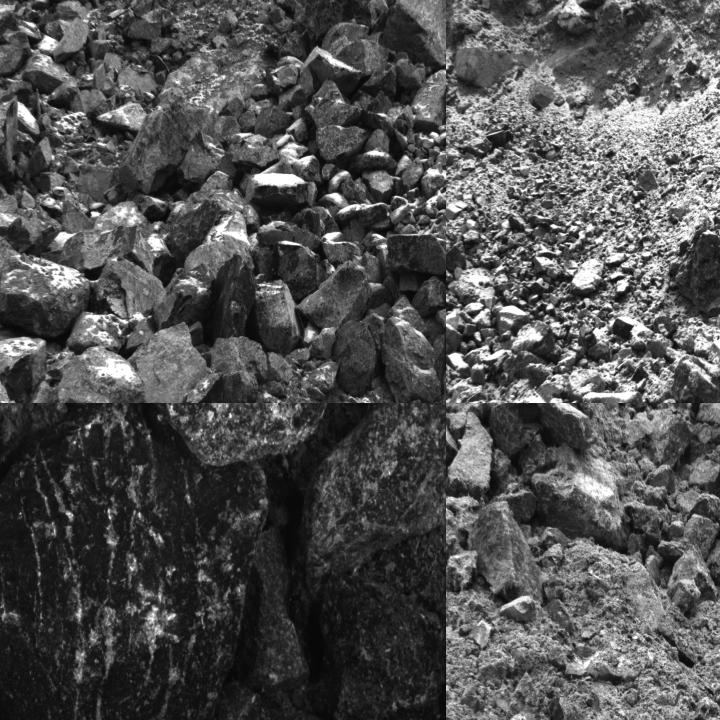stone: (0, 403, 268, 719), (300, 403, 445, 597), (306, 573, 445, 719), (237, 526, 309, 696), (531, 442, 628, 549), (116, 100, 212, 193), (0, 254, 92, 340), (202, 682, 415, 719), (469, 500, 544, 604), (468, 499, 543, 602), (127, 320, 209, 402), (295, 262, 372, 330), (54, 347, 149, 402), (381, 317, 442, 402), (376, 0, 445, 62), (92, 259, 165, 316), (446, 411, 494, 497), (58, 226, 136, 278), (253, 279, 306, 355), (150, 267, 212, 328), (334, 319, 382, 396), (273, 240, 325, 303), (68, 311, 145, 351), (541, 403, 603, 452), (489, 403, 544, 458), (646, 408, 694, 470), (488, 403, 540, 459), (306, 80, 361, 129), (385, 234, 445, 278), (211, 336, 268, 382), (668, 546, 717, 597), (672, 352, 719, 402), (246, 172, 311, 208), (315, 124, 366, 167), (23, 53, 78, 92), (336, 38, 389, 78), (0, 195, 35, 254), (412, 69, 445, 130), (232, 134, 280, 173), (495, 480, 536, 520), (177, 142, 216, 184), (53, 17, 89, 62), (684, 514, 719, 560), (97, 102, 147, 132), (412, 275, 445, 320), (689, 492, 719, 540), (510, 320, 554, 352), (498, 596, 547, 623), (255, 106, 294, 139), (570, 257, 604, 294), (221, 371, 260, 402), (667, 580, 705, 611), (62, 200, 94, 233), (446, 552, 473, 591), (543, 693, 578, 719), (647, 464, 676, 494), (584, 390, 643, 402), (446, 412, 459, 462), (696, 403, 719, 430), (707, 332, 719, 377)
